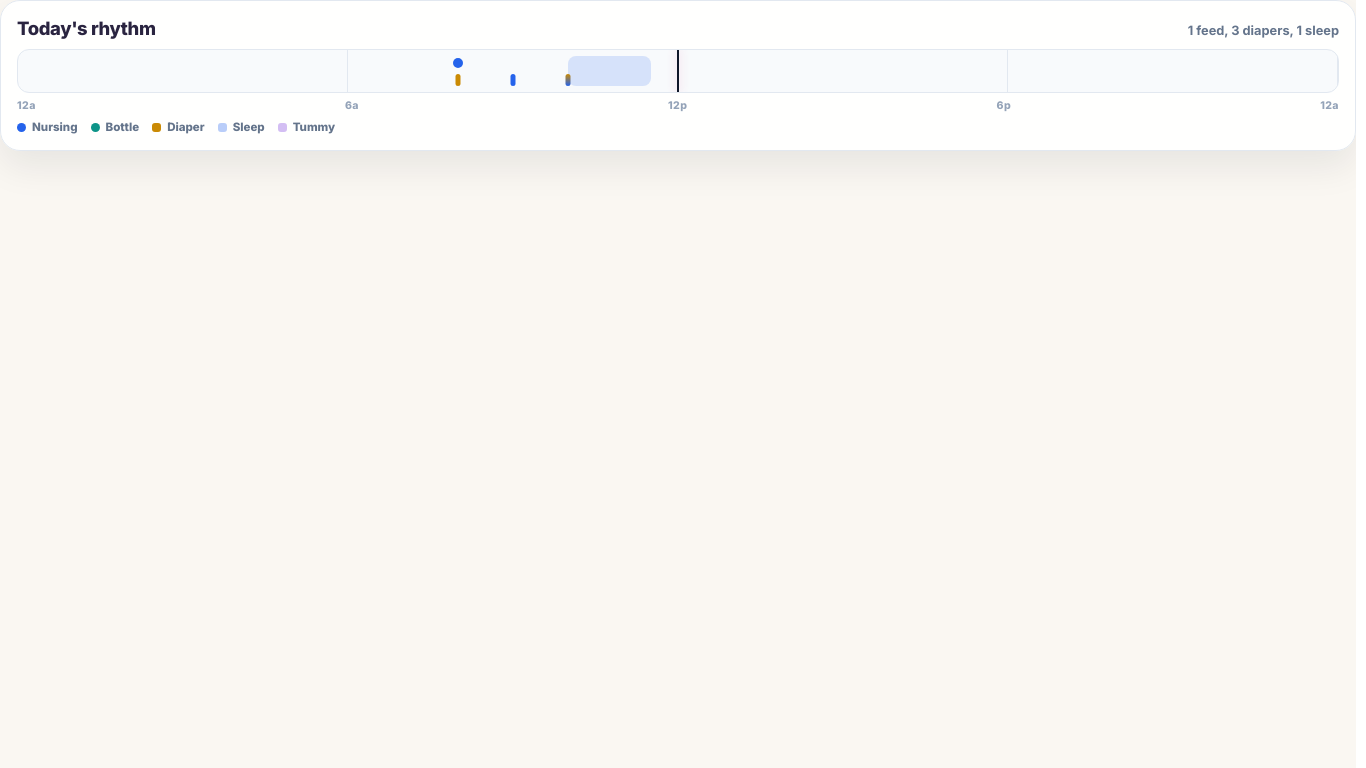
Test case: DayRibbon details › breaks today’s changes into wet, stool, and mixed counts
Click the element named "Today's rhythm:": (678, 80) 17,49 -> 1339,112
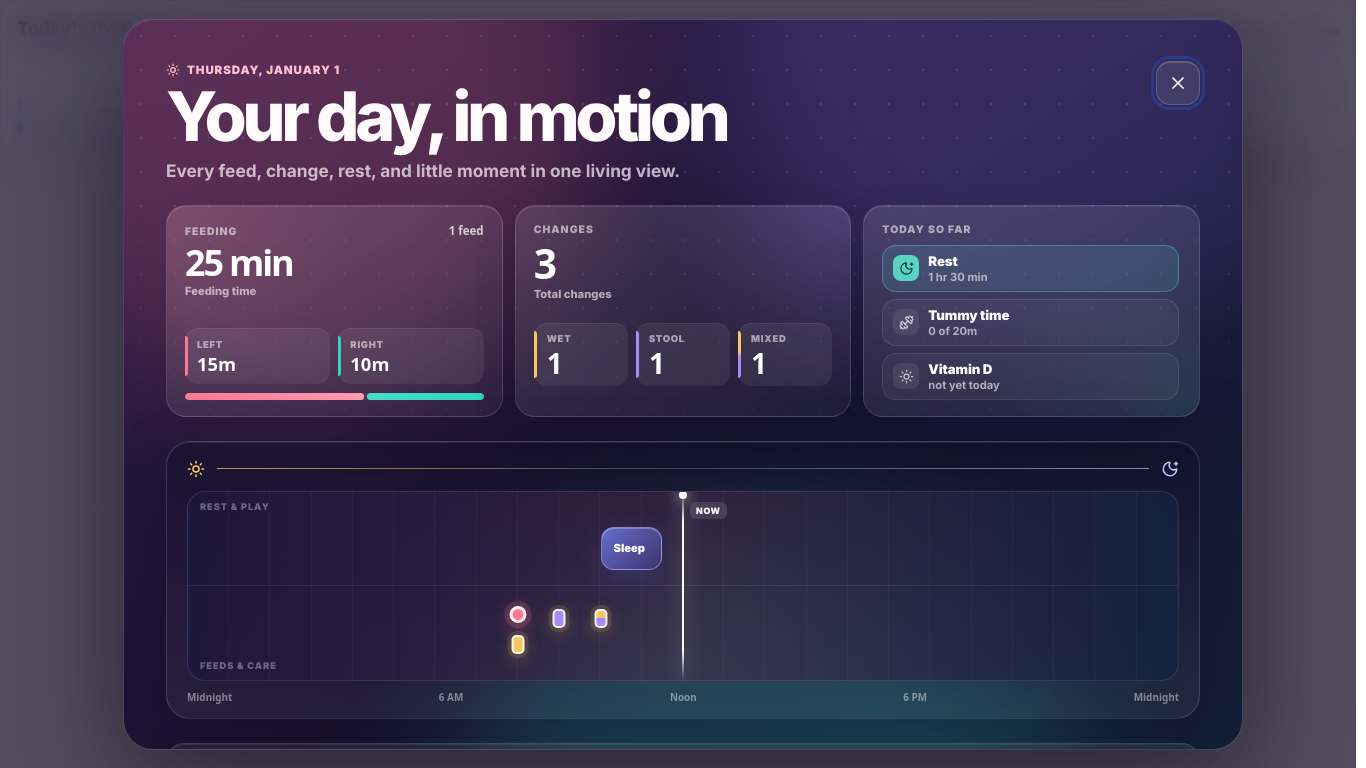
Now the text "Total changes" is shown, box 534,286 -> 612,300
Now the element with class "rhythm-change-total" shows "3", box 534,235 -> 555,291
Now the element with class "rhythm-change-stats" is shown, box 534,323 -> 832,386
